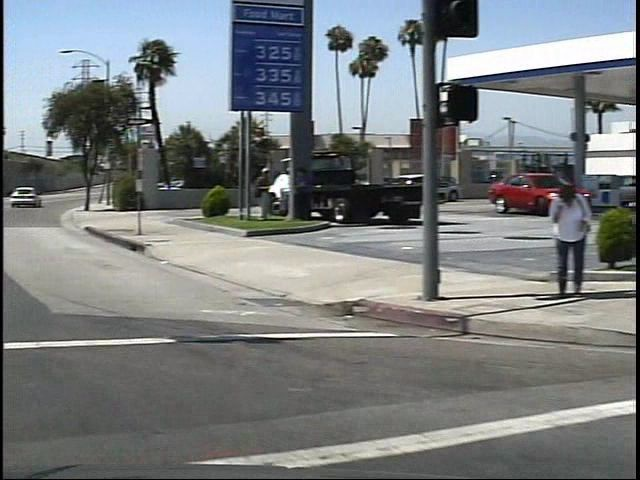person: (533, 177, 579, 301), (245, 167, 268, 228)
